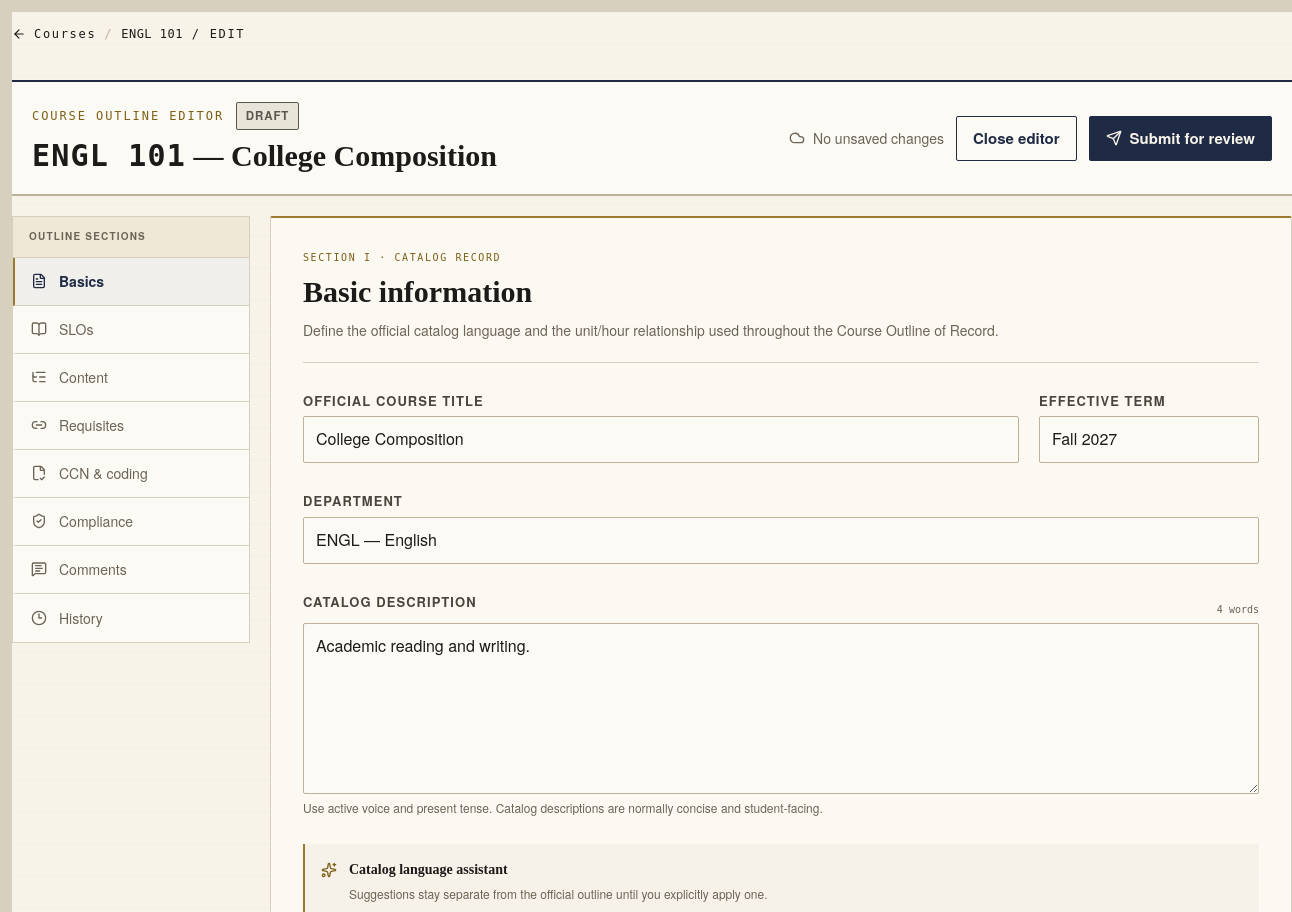
Test: CourseEditor autosave › keeps the draft in place and exposes a retry when persistence fails
This screenshot has width=1292, height=912.
Replace the text in the field labelled "Official course title" with "Writing in the Disciplines" at (661, 440), box [303,416,1019,463]
Wait 900 ms
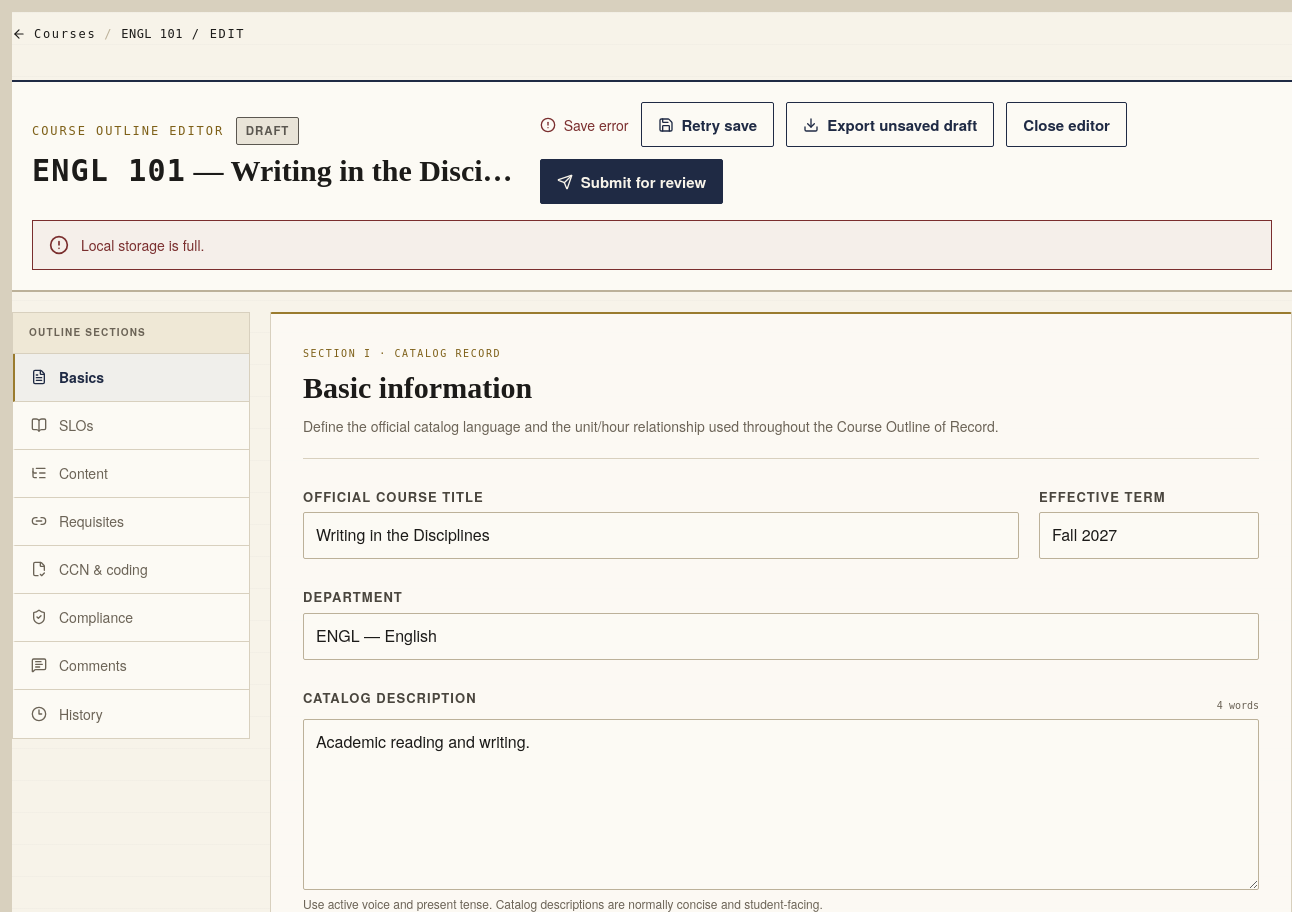
Result: the message "Save error" is shown at [540,114,628,134]
Result: the message "Local storage is full." is shown at [32,220,1272,270]
Result: the button "Retry save" is shown at [640,102,774,147]
